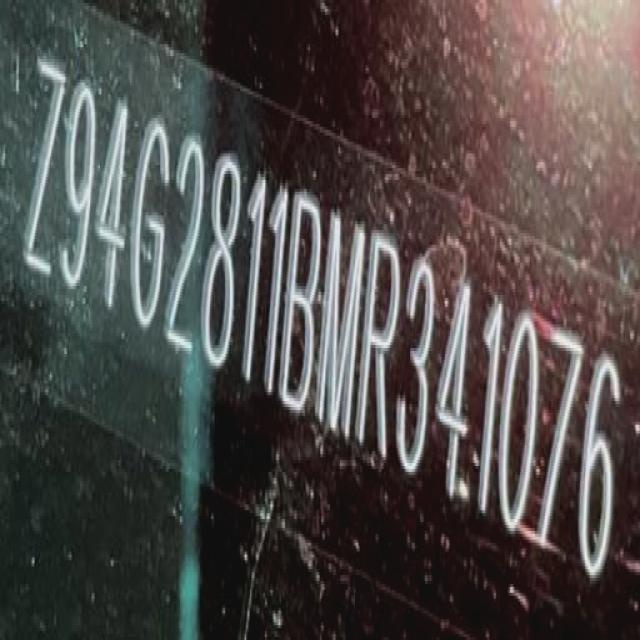0: (501, 299, 544, 546)
1: (474, 287, 504, 535), (241, 170, 268, 388), (263, 182, 288, 394)
2: (165, 131, 209, 367)
3: (397, 243, 439, 497)
4: (432, 271, 478, 523), (93, 88, 139, 324)
6: (581, 342, 628, 590)
7: (538, 312, 588, 572)
8: (202, 142, 246, 382)
9: (56, 73, 103, 306)
B: (279, 183, 328, 426)
G: (126, 108, 174, 343)
M: (314, 203, 368, 452)
R: (361, 219, 405, 473)
Z: (17, 43, 72, 294)
